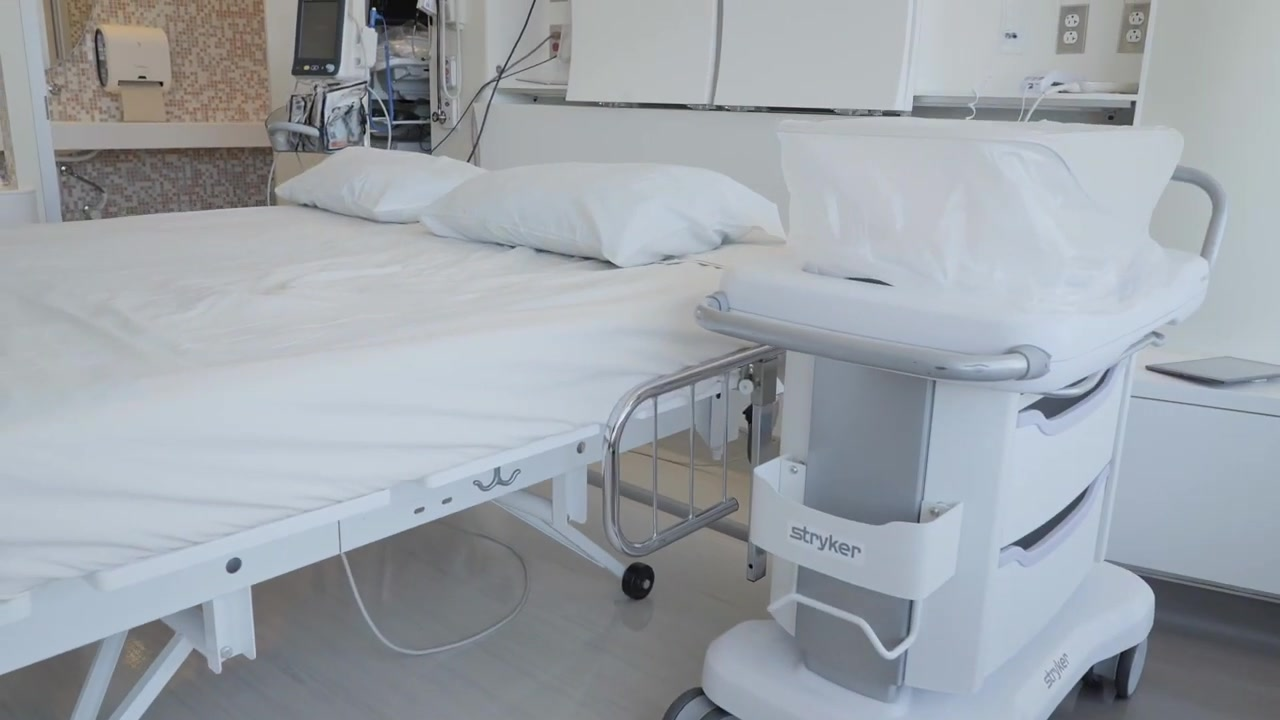bedrail: (601, 343, 782, 560)
bedside_monitor: (275, 6, 360, 79)
dispenser: (90, 22, 171, 124)
hospital_bed: (1, 146, 786, 720)
utility_cart: (661, 131, 1229, 720)
